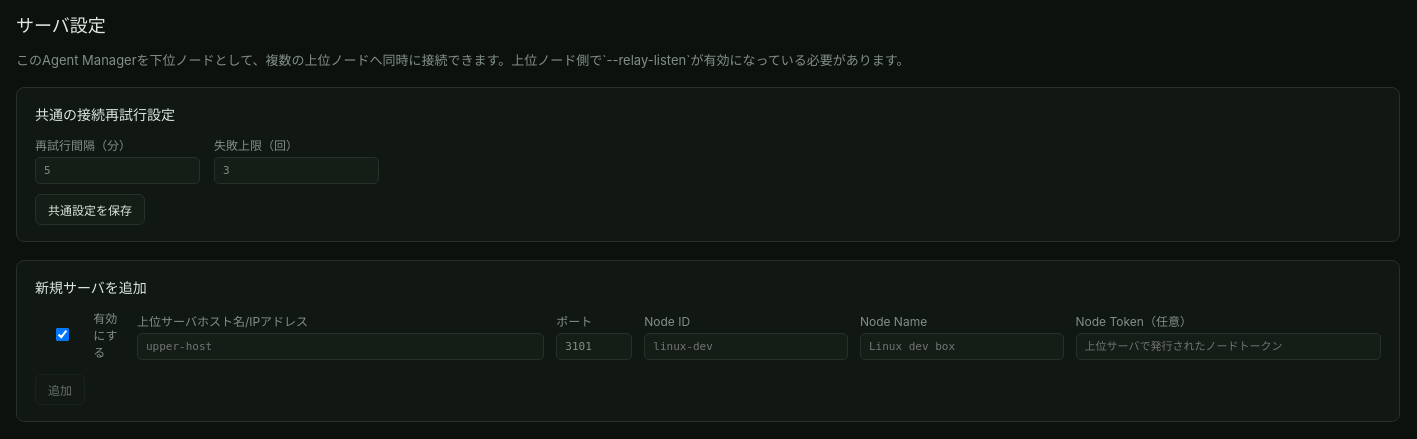
Test: ServerSettingsView (ADR-009 upstream connections, multi-server) › saves one retry policy for all servers
Step 1. Replace the text in the number field labelled "再試行間隔（分）" with "7" → (118, 170), box [35, 157, 200, 184]
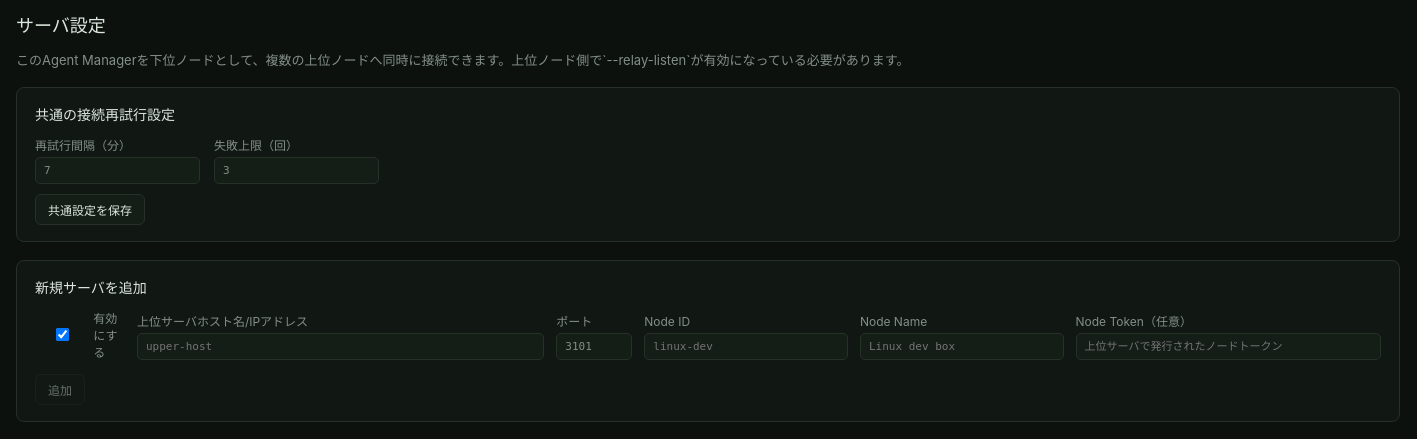
Step 2. Replace the text in the number field labelled "失敗上限（回）" with "4" → (296, 170), box [214, 157, 379, 184]
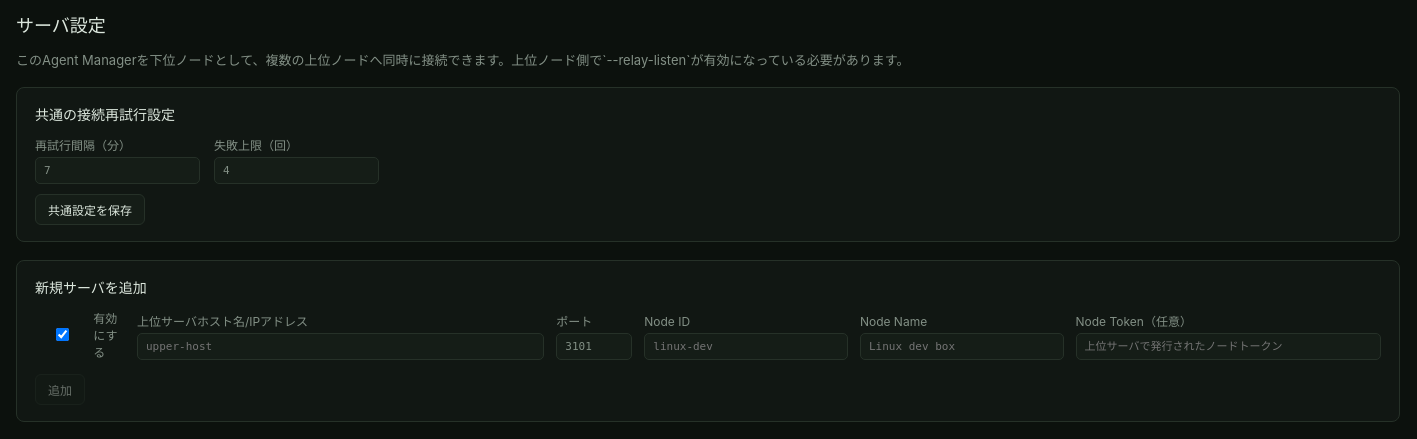
Step 3. Click the button "共通設定を保存" → (90, 210), box [35, 194, 145, 225]
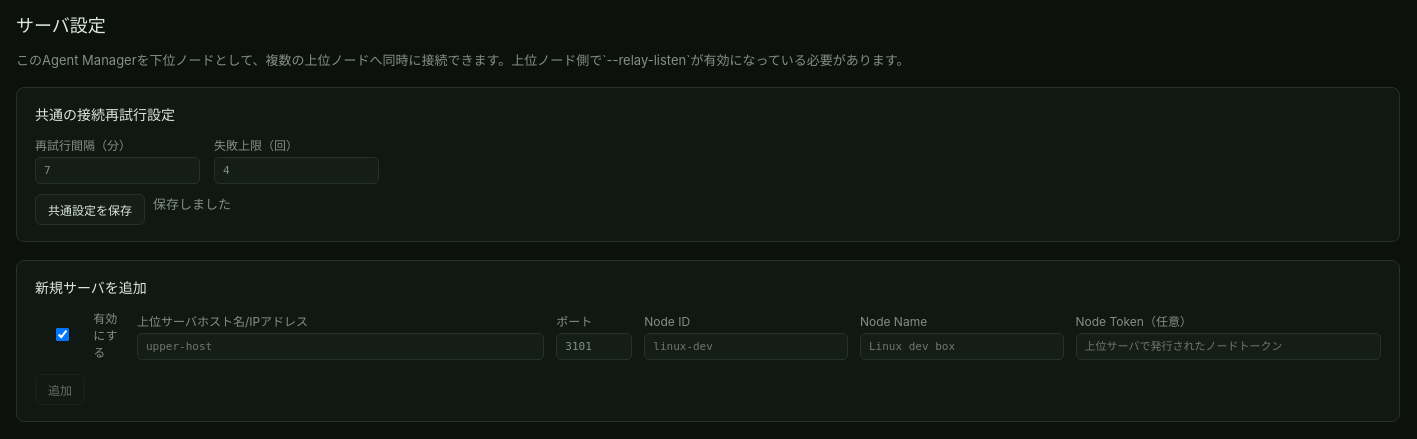
Now the element with class "server-retry-settings" shows "保存しました", box [153, 196, 231, 212]
